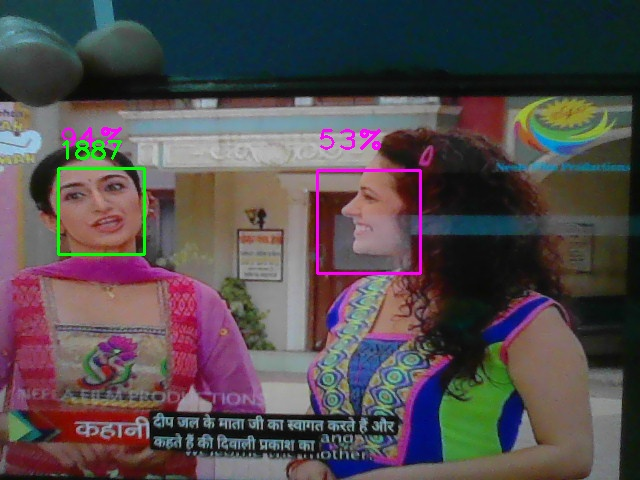fake: (58, 168, 145, 255)
